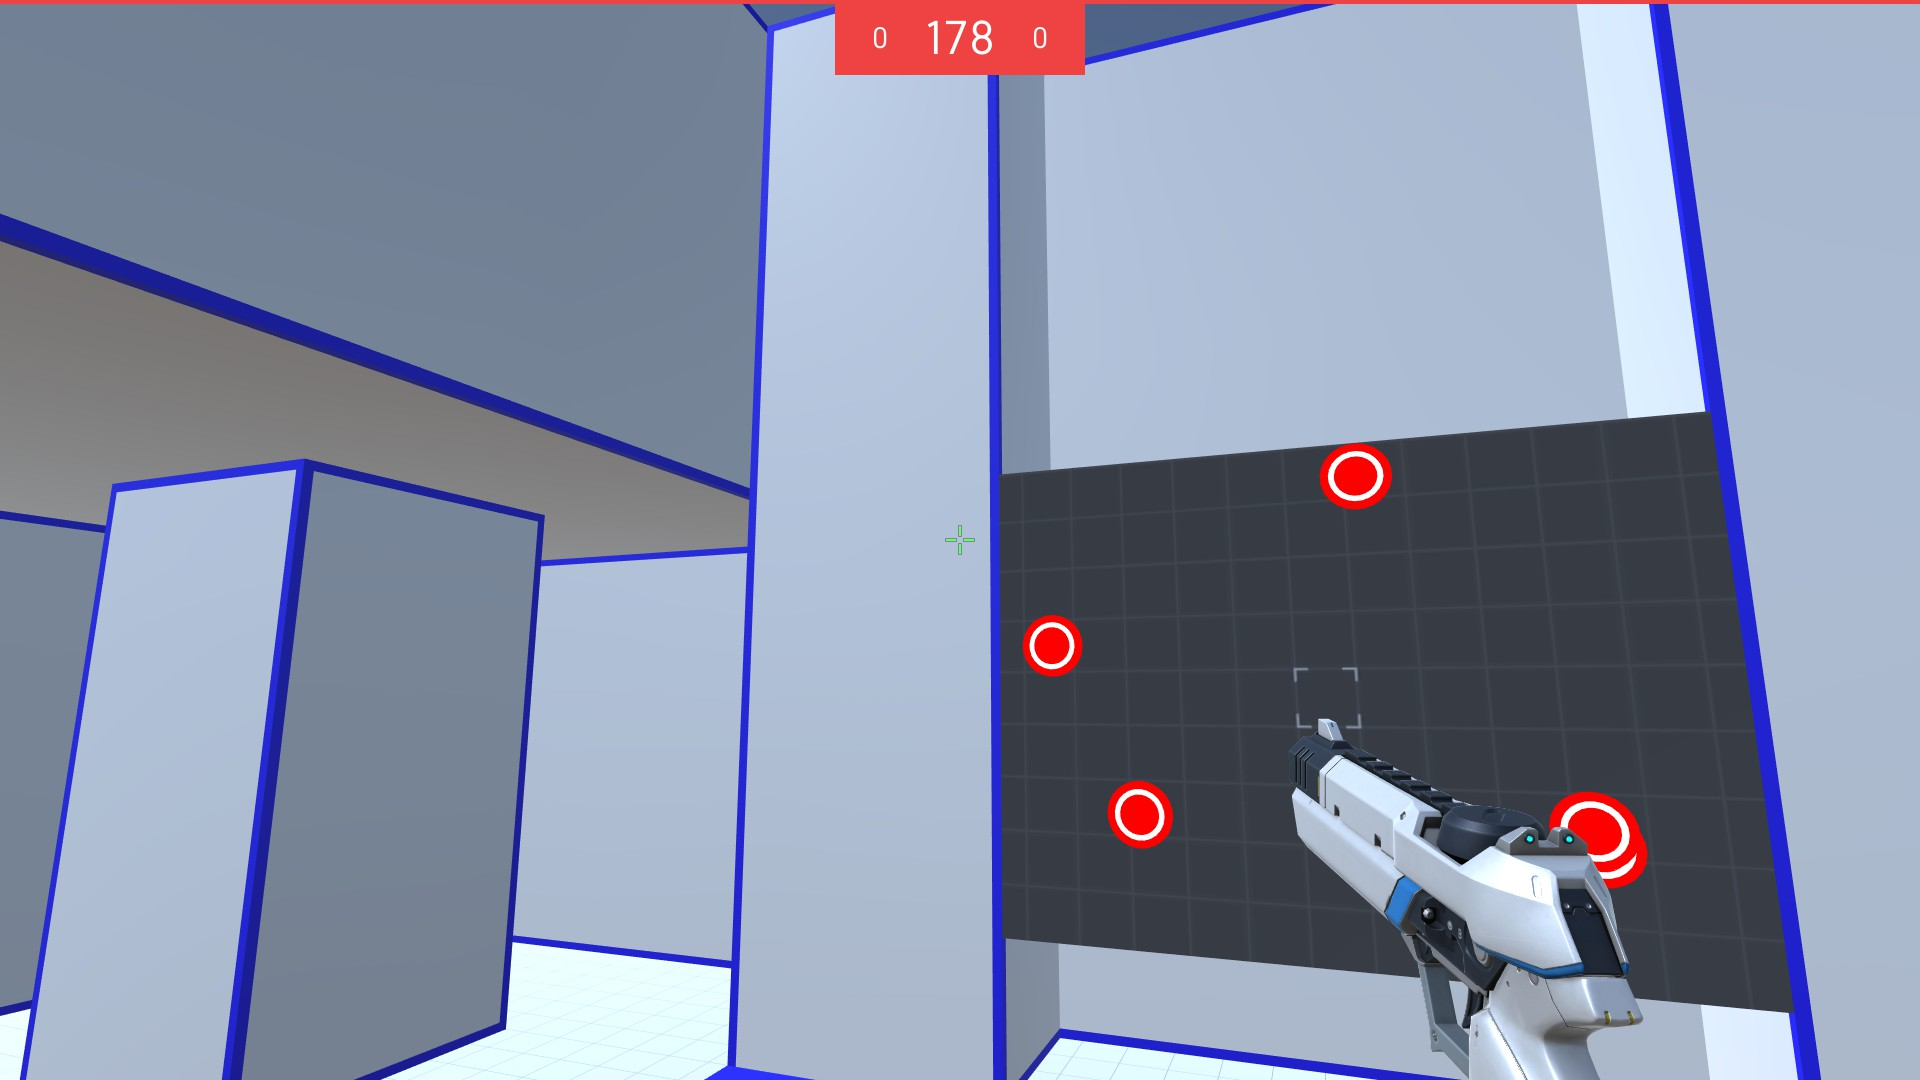target: (1548, 793, 1639, 866), (1316, 436, 1393, 513), (1105, 779, 1178, 851), (1018, 615, 1084, 683)
